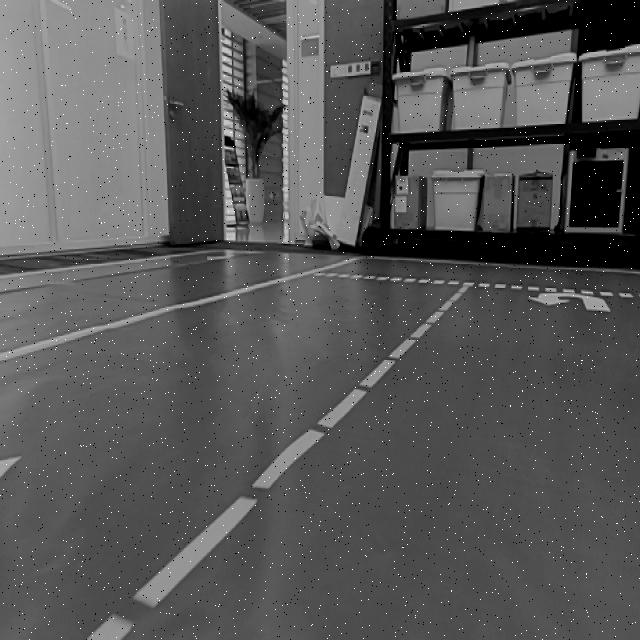left_lane: (81, 280, 475, 640)
right_lane: (0, 254, 356, 363)
